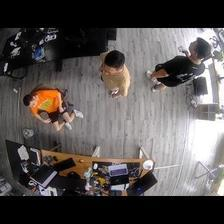normal: (145, 37, 210, 93), (23, 88, 84, 132), (100, 50, 131, 100)
